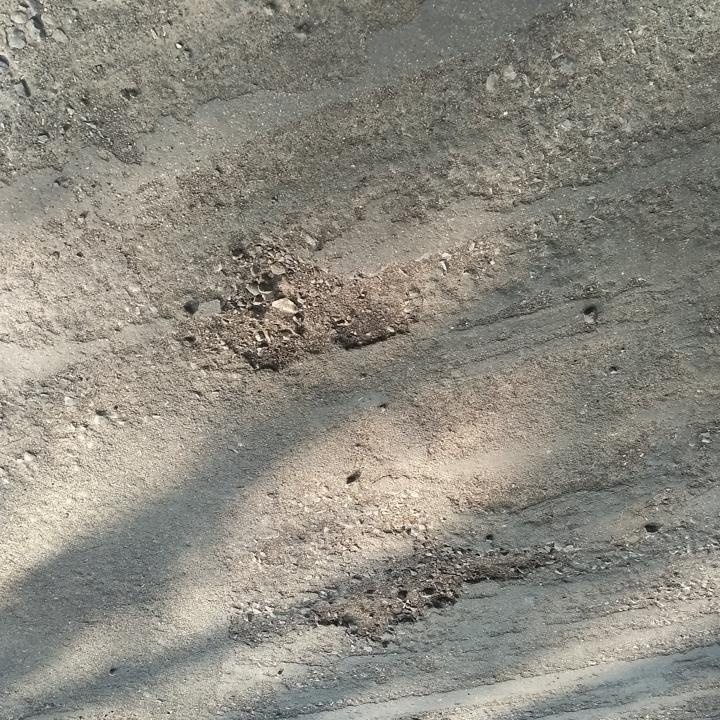pothole: (215, 232, 417, 380), (300, 531, 556, 646)
